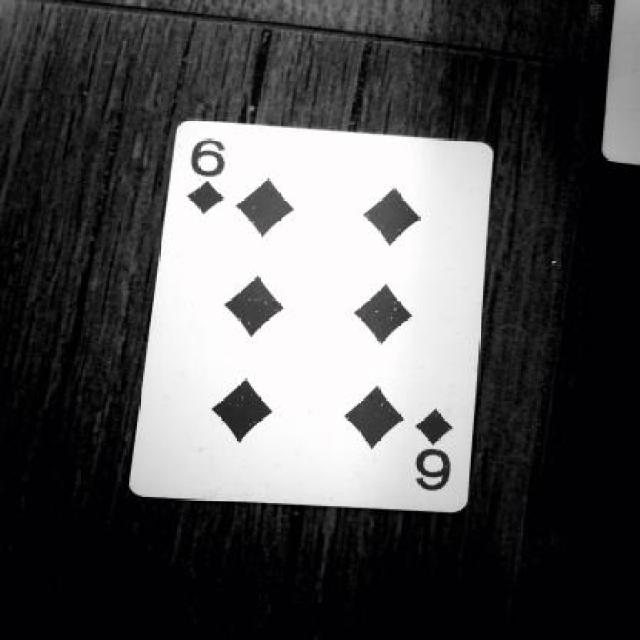6D: (408, 400, 478, 498), (175, 136, 257, 219)
